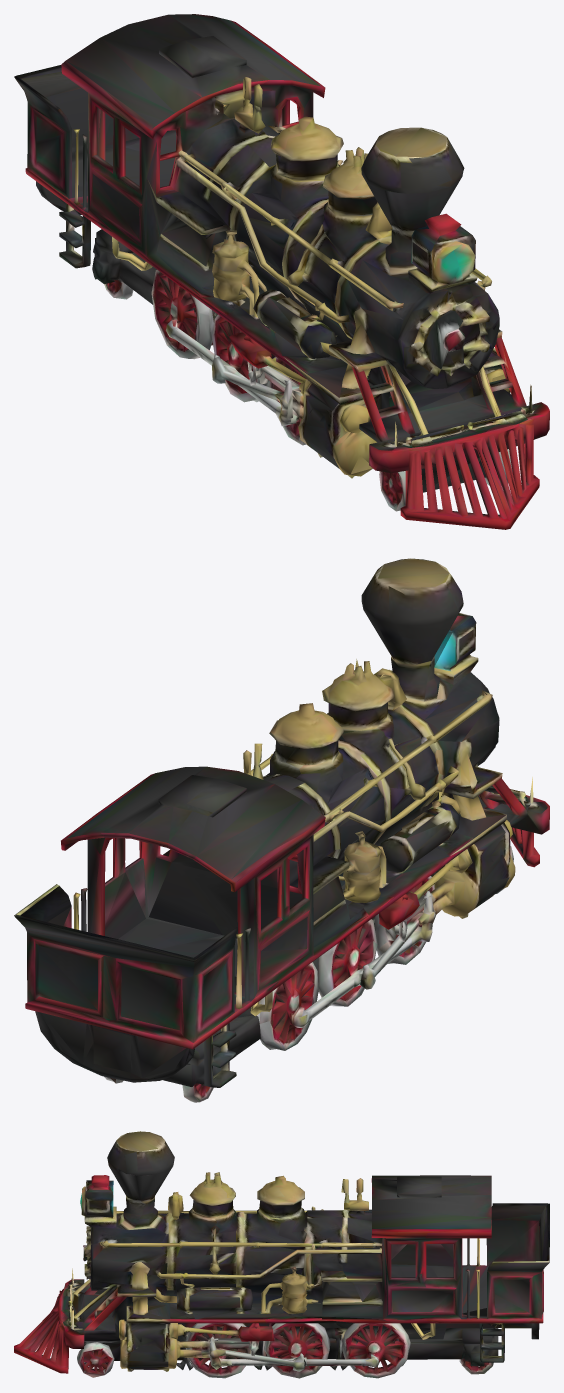
File: prop_gulch_loco.fbx
3 views of the same model, one above another, from view 1: azimuth 30°, elevation 25°; view 2: azimuth 150°, elevation 25°; view 3: azimuth 270°, elevation 25° (orthographic). The views are drawn at different scales.
Visible parts, largest first — view 1: tripo_node_c32e47b0-b926-41cd-9883-2c90a019e5f4; view 2: tripo_node_c32e47b0-b926-41cd-9883-2c90a019e5f4; view 3: tripo_node_c32e47b0-b926-41cd-9883-2c90a019e5f4.
Part boxes in pixels (x1=…): tripo_node_c32e47b0-b926-41cd-9883-2c90a019e5f4: x1=14, y1=14, x2=549, y2=529; tripo_node_c32e47b0-b926-41cd-9883-2c90a019e5f4: x1=14, y1=558, x2=549, y2=1102; tripo_node_c32e47b0-b926-41cd-9883-2c90a019e5f4: x1=14, y1=1131, x2=549, y2=1378.
Bounding box in the file's own units: 0.2584 × 0.4456 × 0.9851.
